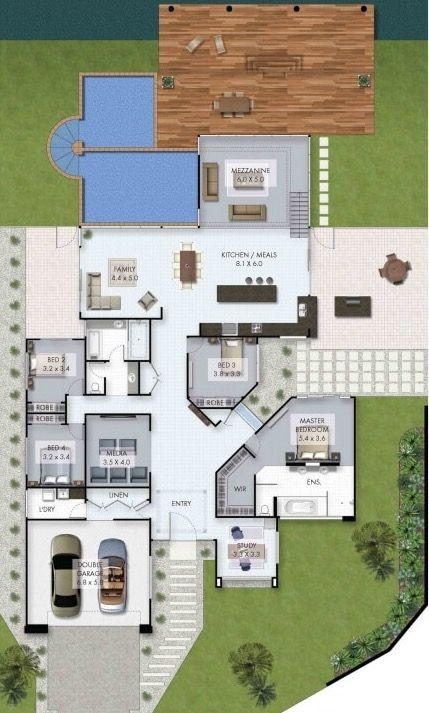room: (243, 391, 358, 523), (184, 333, 262, 431), (82, 317, 153, 398), (83, 412, 153, 489), (214, 514, 280, 591), (24, 337, 88, 397), (25, 483, 88, 522)
